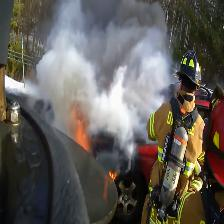fire: (65, 108, 122, 197)
smoke: (32, 0, 179, 145)
